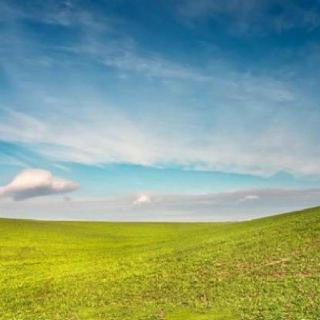Cirrocumulus: (0, 0, 320, 242)
